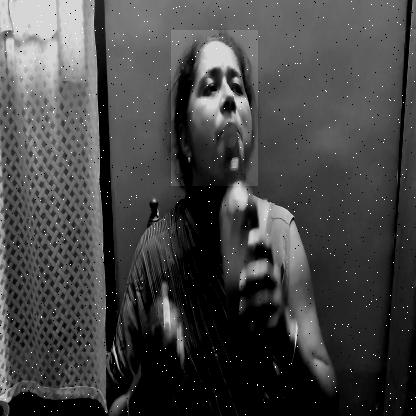Distracted: (171, 30, 258, 186)
